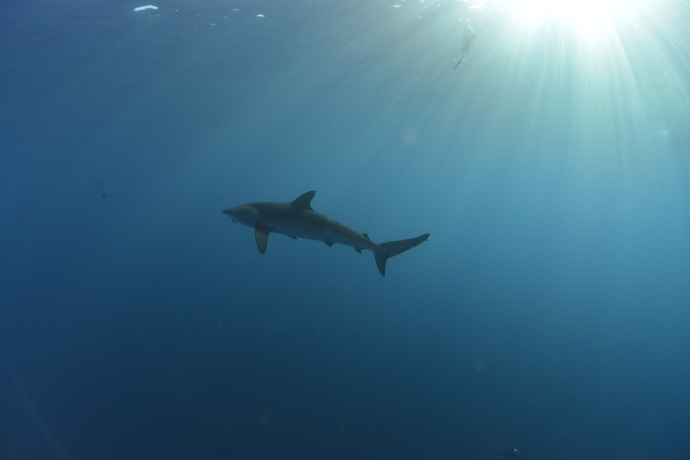Sedoso: (194, 188, 448, 290)
